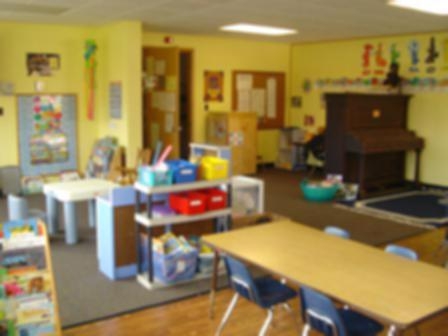Otro Obstaculo: (325, 91, 415, 197), (298, 170, 345, 202)
Puerta: (140, 45, 184, 161)
